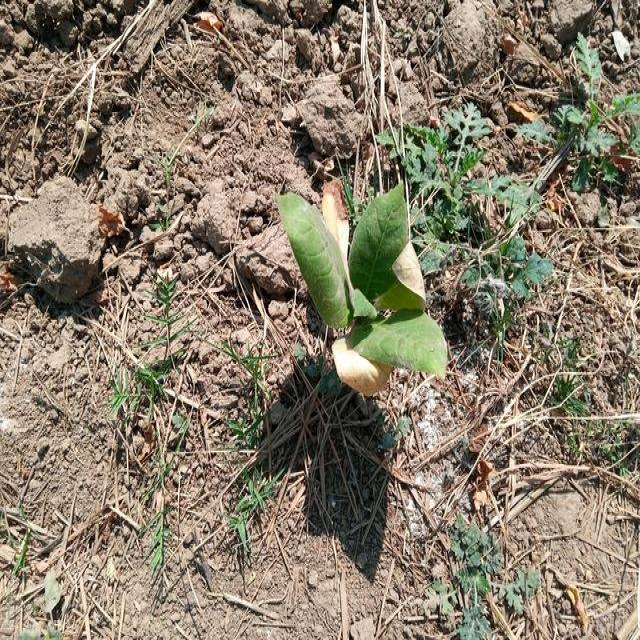crop: (277, 190, 453, 402)
